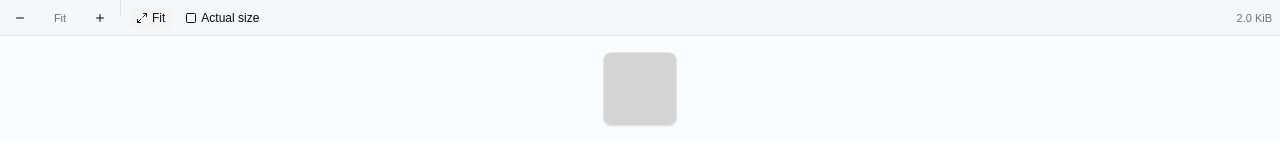
Test case: ImageViewer › steps zoom away from fit and back to actual size
Click the button named "Zoom in".
click(100, 18)  # box [88,6,112,30]
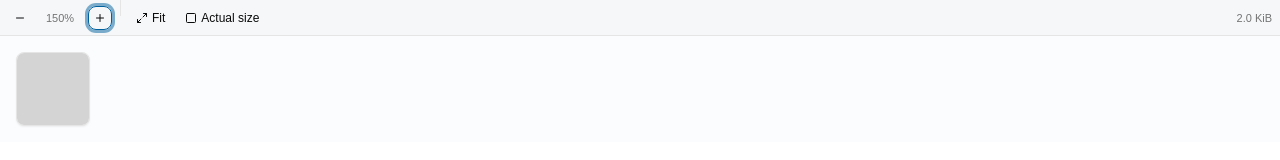
Result: the text "150%" is shown at [46,12,74,24]
Click the button "Actual size".
click(223, 18)  # box [178,6,268,30]
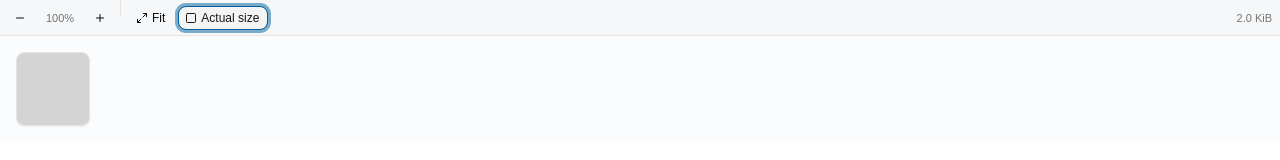
Result: the text "100%" is shown at [46,12,74,24]
